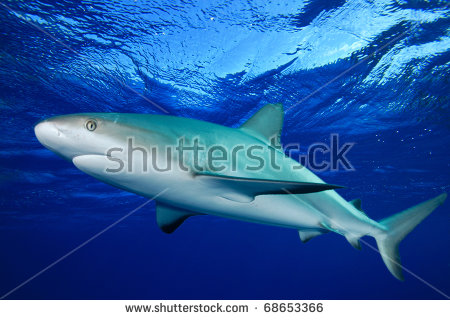Carcharhinus_amblyrhynchos: (30, 98, 450, 291)
